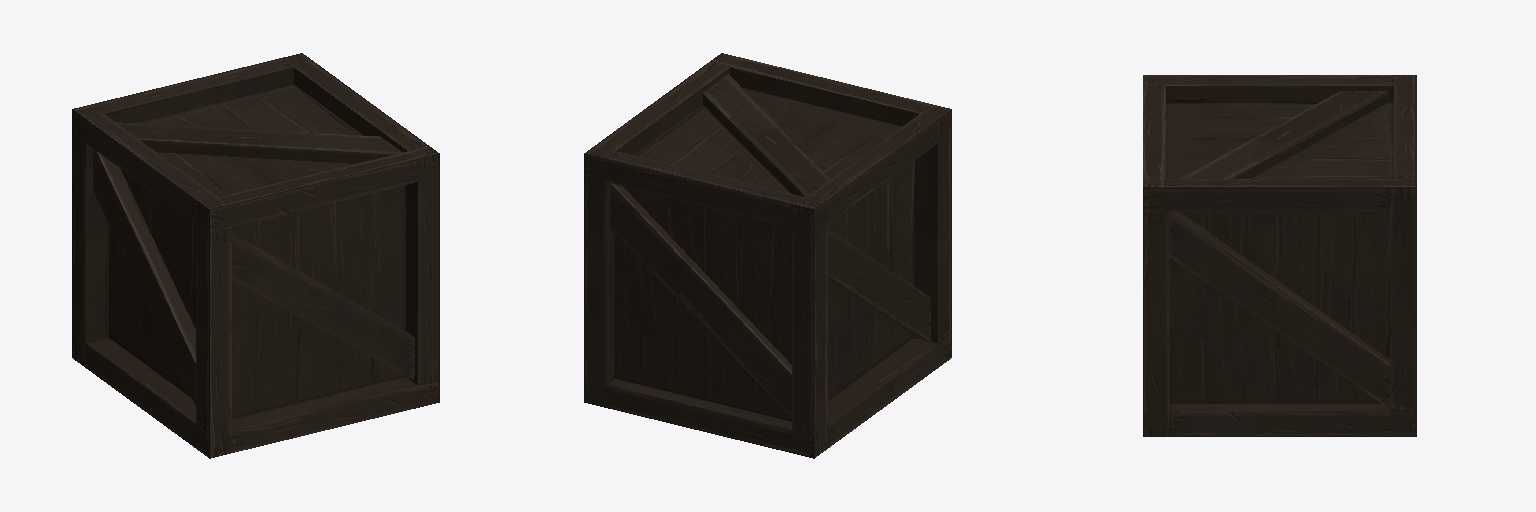
3 views of the same model, side by side, from view 1: azimuth 30°, elevation 25°; view 2: azimuth 150°, elevation 25°; view 3: azimuth 270°, elevation 25° (orthographic).
Visible parts, largest first — view 1: Cube; view 2: Cube; view 3: Cube.
Boxes of the visible parts, x1=… form: Cube: x1=72, y1=53, x2=439, y2=458; Cube: x1=584, y1=53, x2=951, y2=458; Cube: x1=1143, y1=75, x2=1416, y2=436.
Bounding box in the file's own units: 1.93 × 2 × 2.
1 materials, 1 textured.